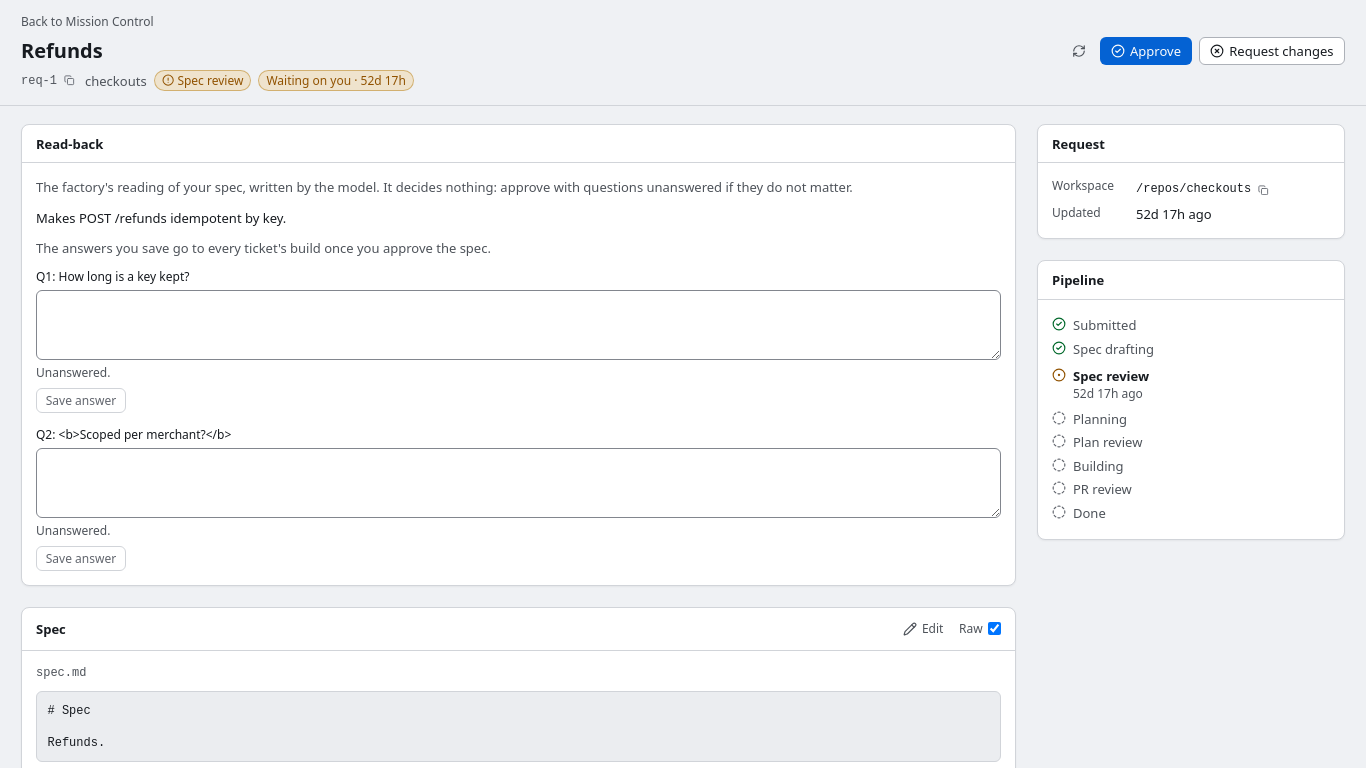
Test case: saving an answer PUTs it for that question alone
The width and height of the screenshot is (1366, 768).
Type "24 hours." into the text box named "Answer to Q1".
click(518, 325); type("24 hours.")  # box [36, 290, 1001, 360]
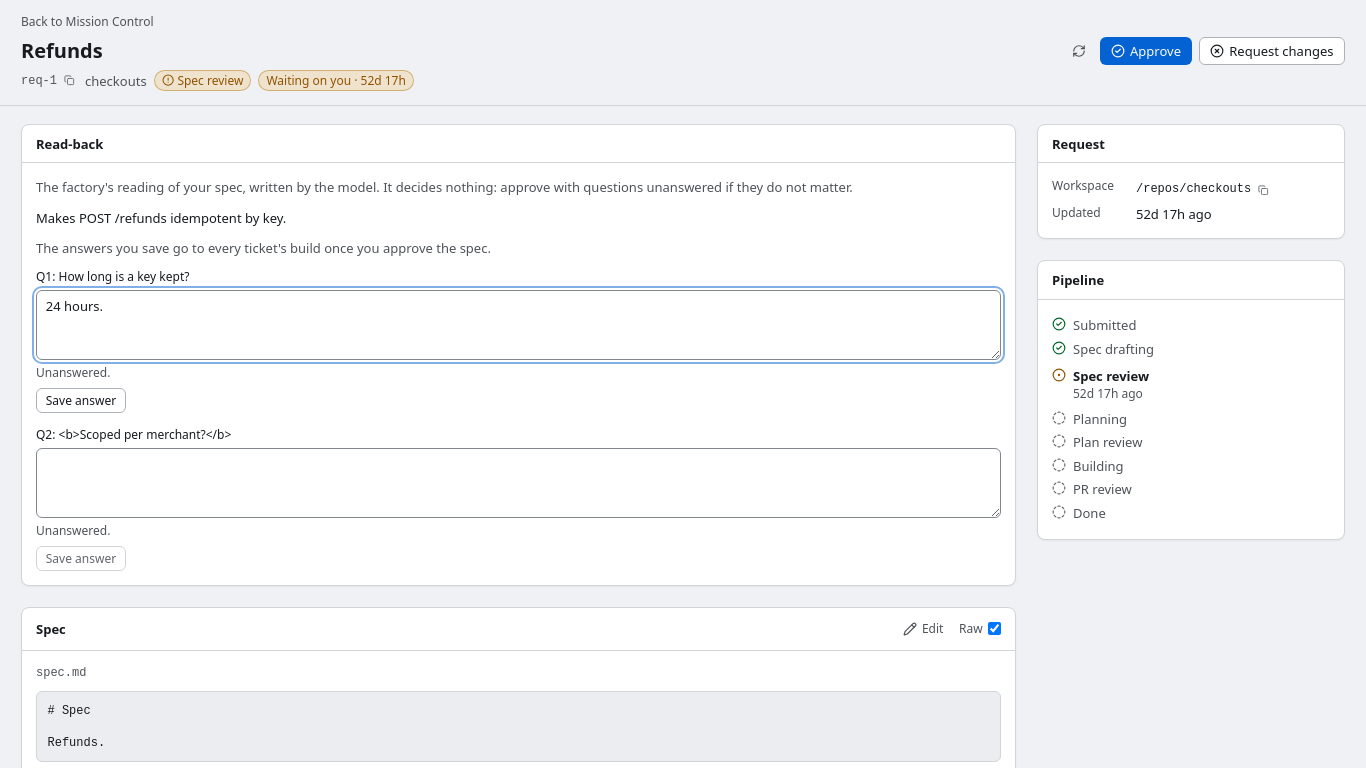
Click the button "Save answer" below "Q1".
click(81, 401)  # box [36, 388, 126, 413]
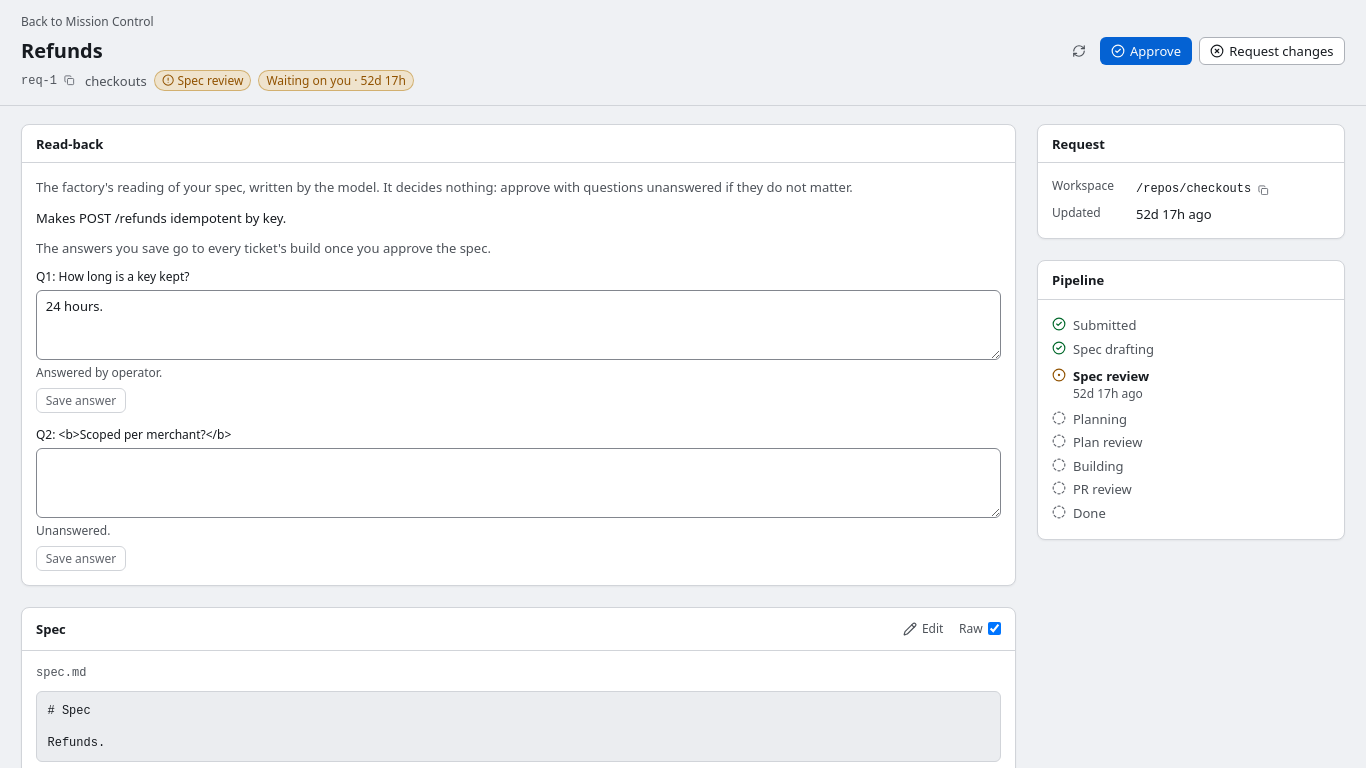
Now the text "Answered by operator." is shown, box [36, 364, 162, 381]
